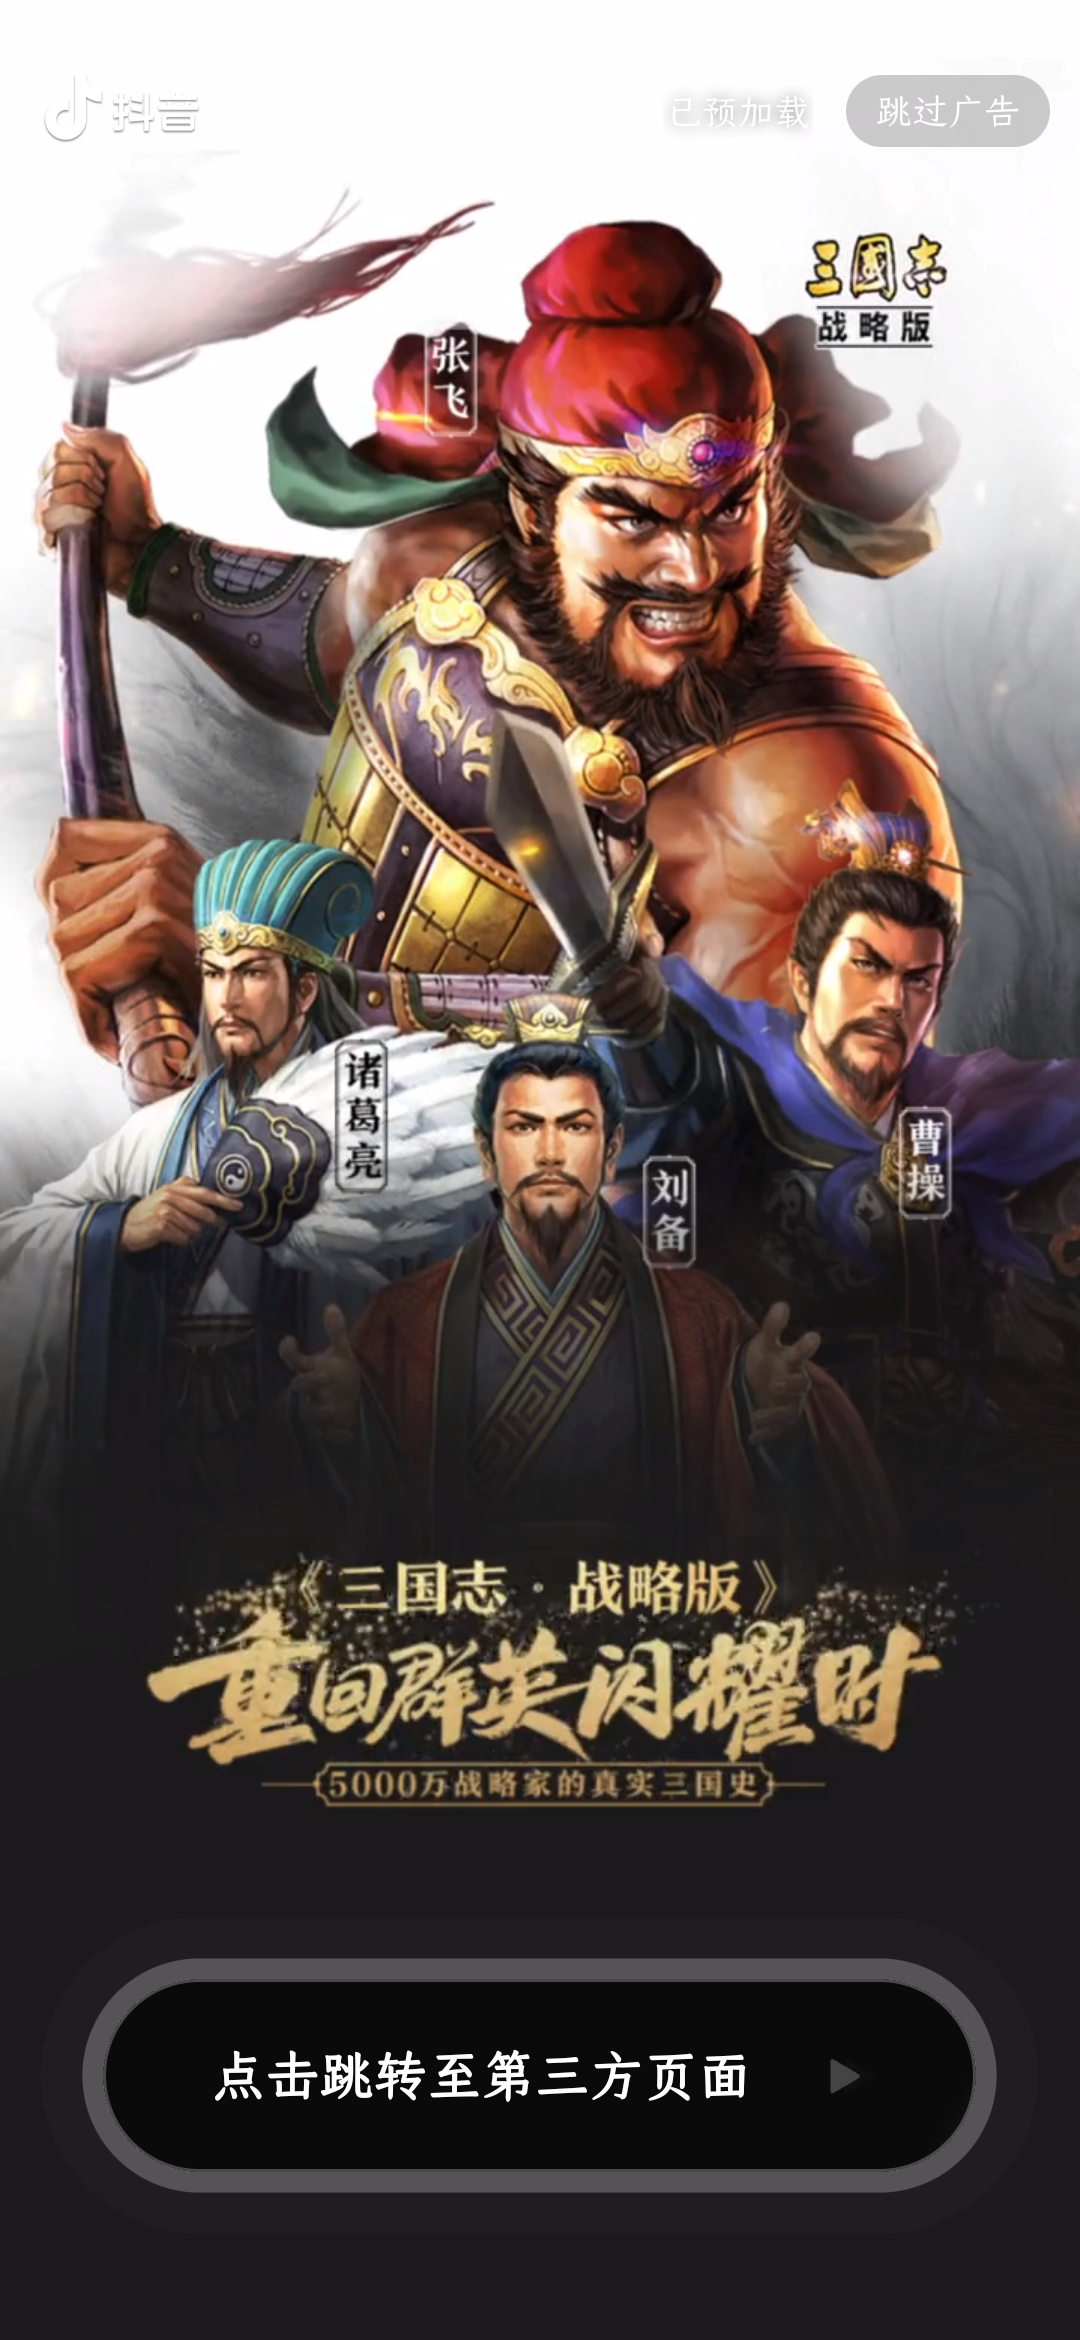skip: (861, 69, 1035, 151)
